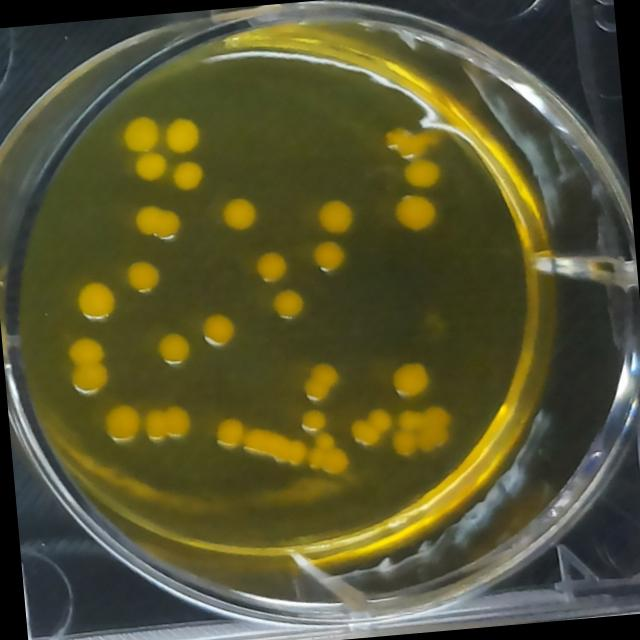vibrio: (238, 420, 306, 470), (68, 271, 124, 328), (128, 198, 182, 246), (388, 189, 440, 237), (302, 428, 350, 478), (116, 107, 164, 155), (98, 398, 142, 448), (386, 356, 432, 402), (346, 404, 395, 446), (313, 194, 358, 238), (216, 192, 261, 236), (298, 358, 342, 403), (150, 326, 194, 368), (121, 254, 163, 296), (64, 361, 111, 398), (307, 234, 348, 276), (160, 111, 202, 152), (250, 245, 291, 285), (399, 152, 442, 190), (198, 308, 239, 347), (126, 147, 168, 185), (168, 155, 208, 194), (63, 332, 106, 368), (210, 412, 247, 453), (268, 284, 307, 322), (140, 403, 168, 447), (162, 401, 192, 440), (296, 404, 326, 432)
